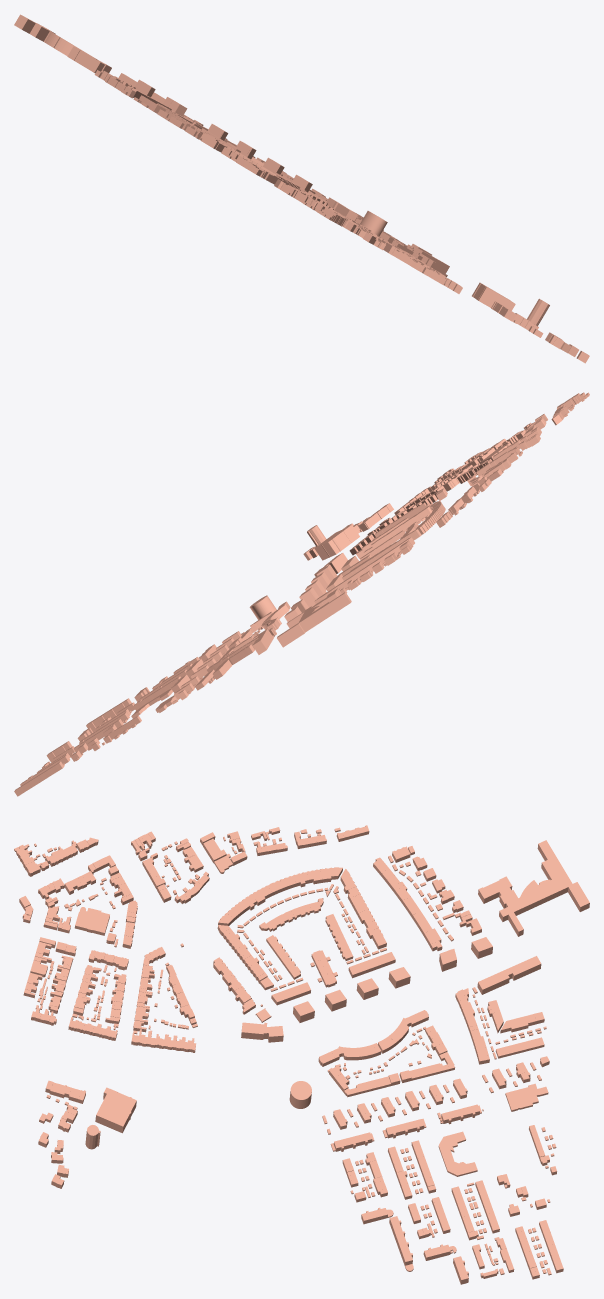
3 renders of one model, top to bottom at view 1: azimuth 30°, elevation 25°; view 2: azimuth 150°, elevation 25°; view 3: azimuth 270°, elevation 25°, orthographic. The views are drawn at different scales.
Bounding box in the file's own units: 473 × 378 × 672.
